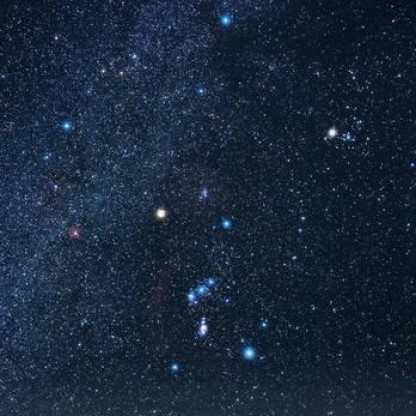Orion: (235, 338, 257, 364), (148, 202, 172, 224), (216, 211, 235, 234), (163, 357, 182, 377), (182, 288, 201, 307), (205, 269, 218, 294), (194, 280, 208, 298)
